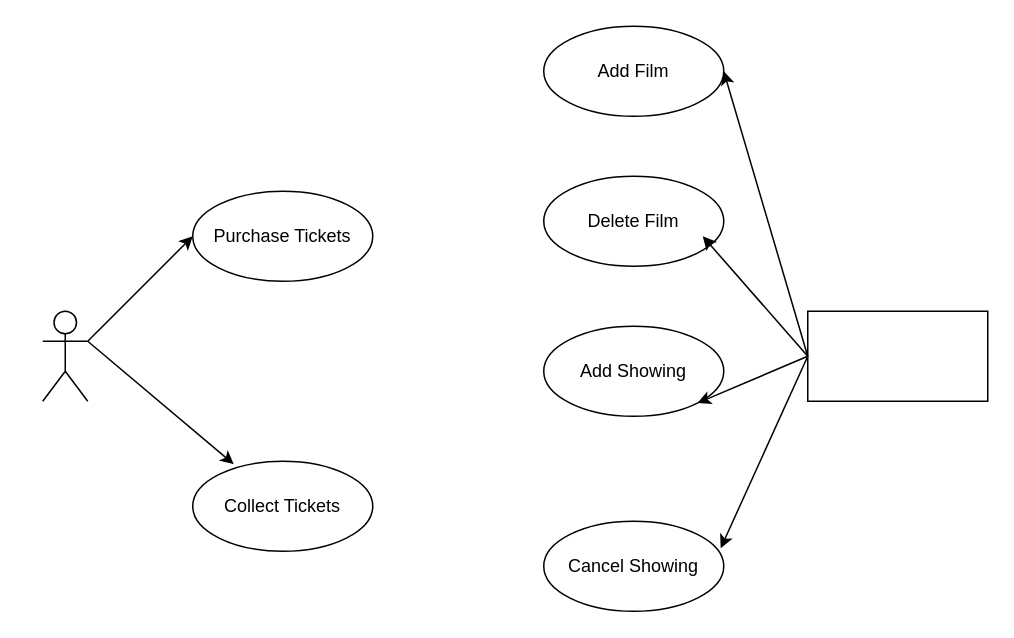
The diagram is 1014 pixels wide and 638 high, and some of its shapes have lost their labels. The centre of each missing label's shape, as x and y in pixels:
"Customer" goes at (x=64, y=355).
"Theatre" goes at (x=897, y=355).
